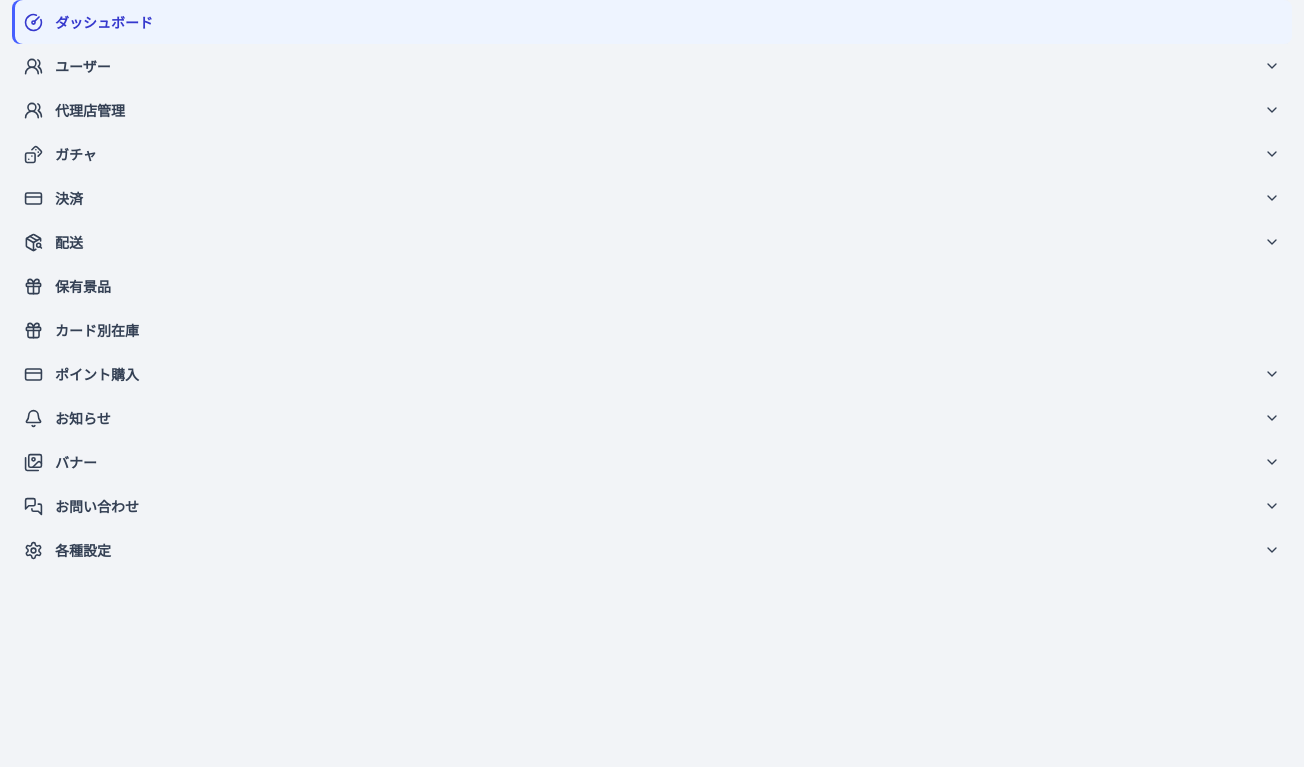
Test: Admin sidebar hierarchy › requests expansion before operating a compact parent
Click the button "ガチャ": {"x": 76, "y": 154} [12,132,1292,176]
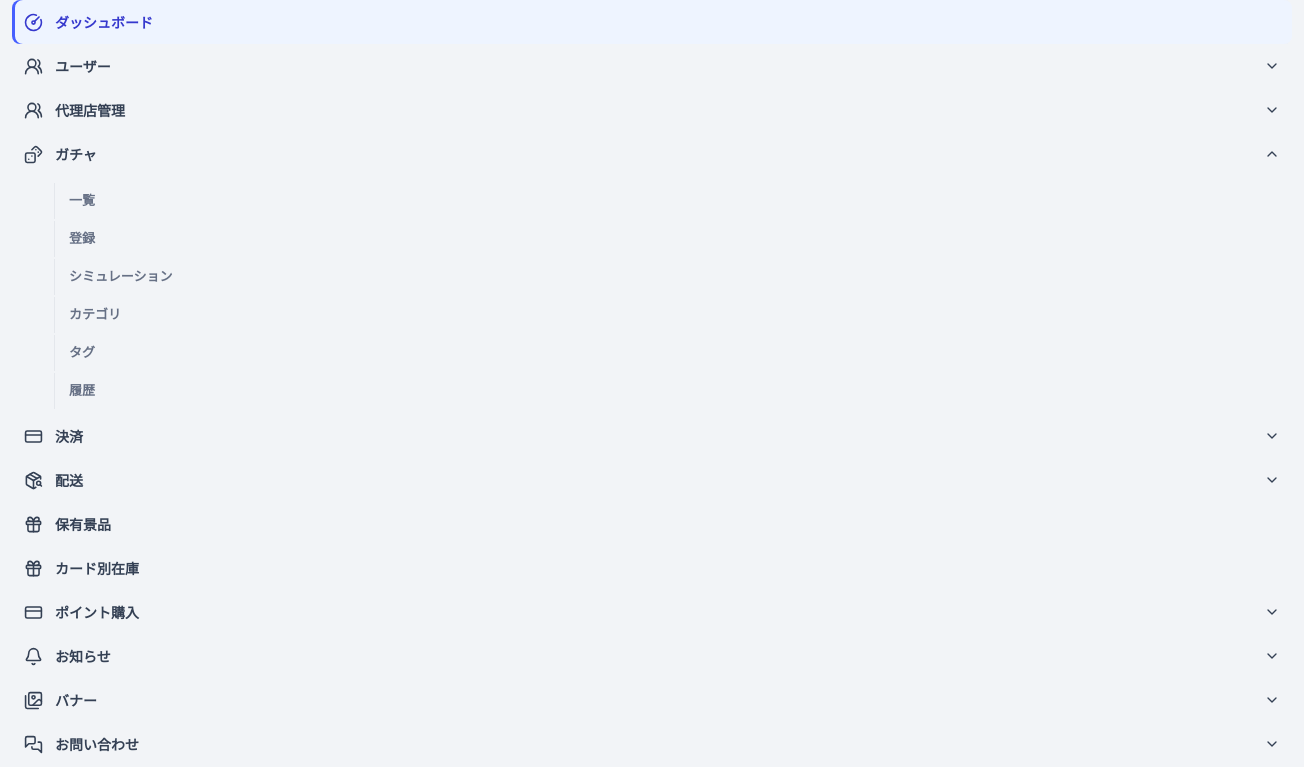
Expected: the button "ガチャ" is expanded, [12,132,1292,176]
